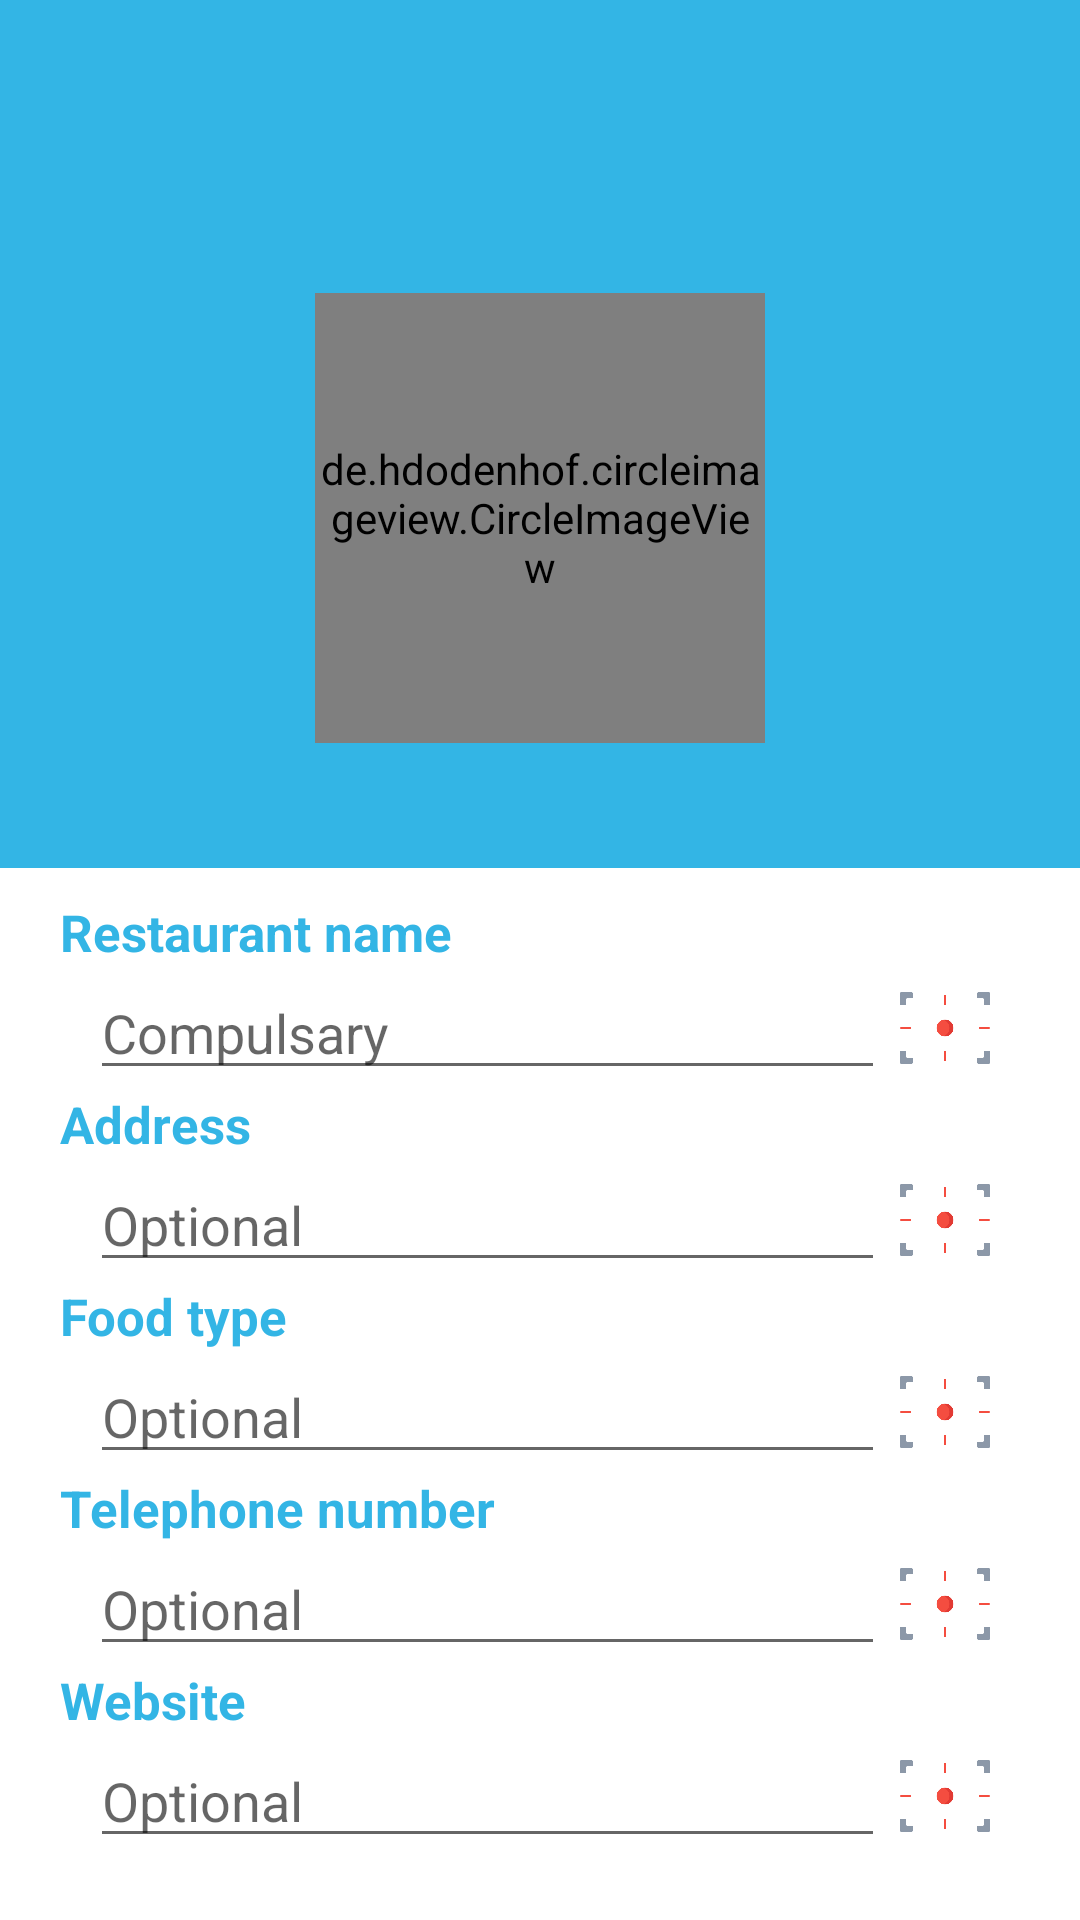

Icons on this 1080x1920 Android screen, each with the point to tap as point (x, y):
focus: point (945, 1028), point (945, 1220), point (945, 1412), point (945, 1604), point (945, 1796)
